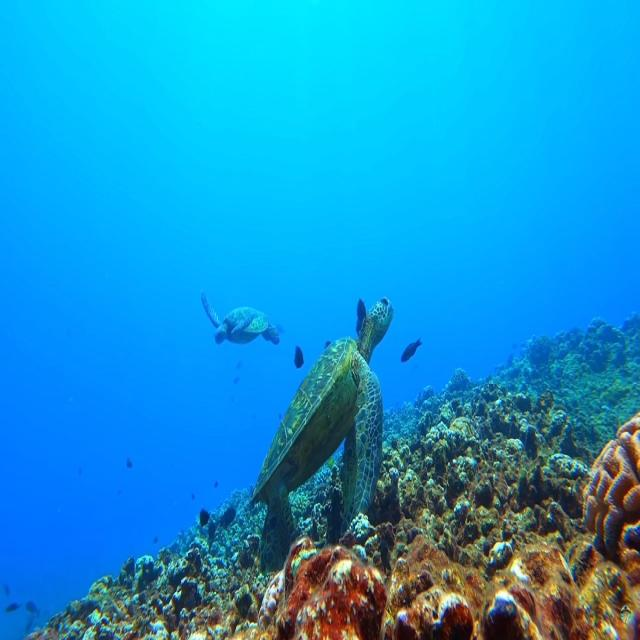Sea turtle: (248, 285, 397, 568), (197, 286, 283, 352)
